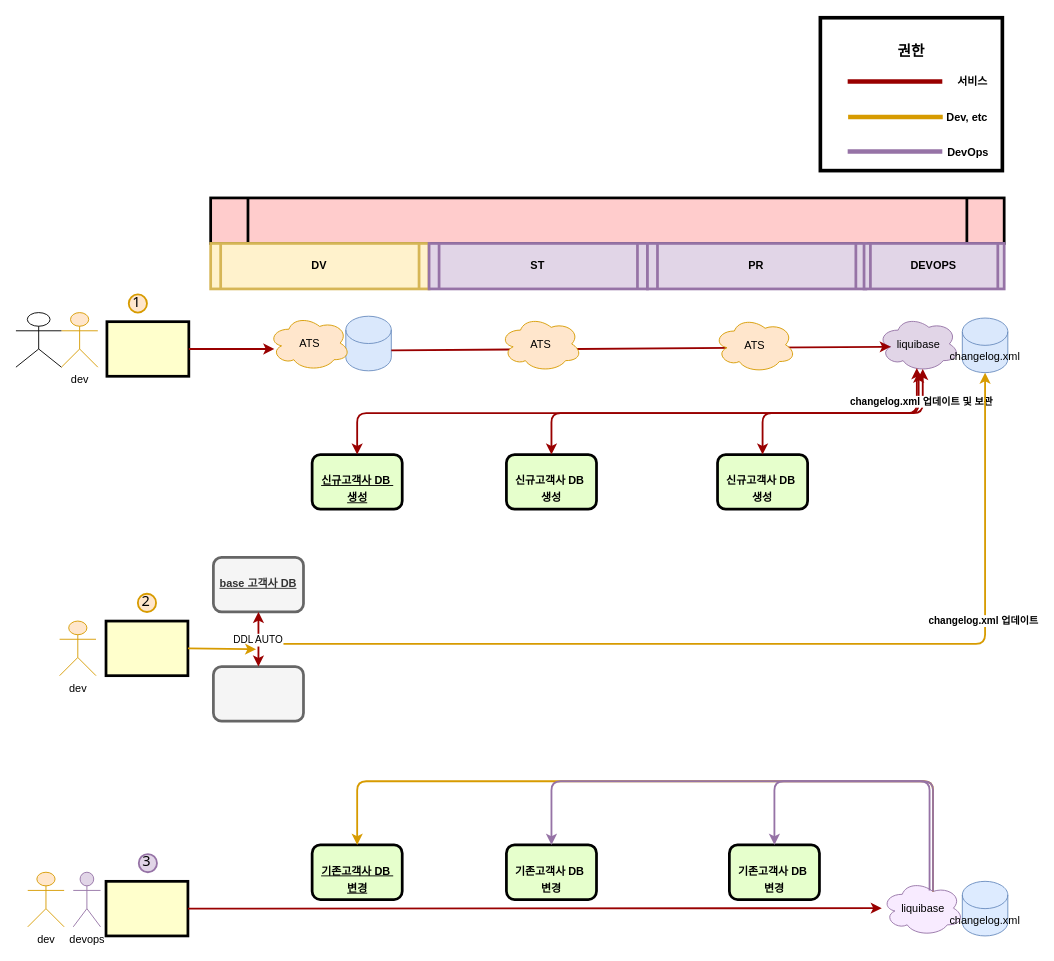
Some shapes in this 1054 by 961 pixel diagram are drawn without their labels. The centre of each missing label's shape, as x and y in pixels:
CS: (38,339)
DB-Manager Flow: (607,220)
Entity: (368,343)
고객사 DB: (258,693)
기존 고객사 DB 변경 사항 업데이트: (146,648)
기존 고객사 DB 변경 요청: (146,908)
신규 고객사 DB생성 요청: (147,348)
